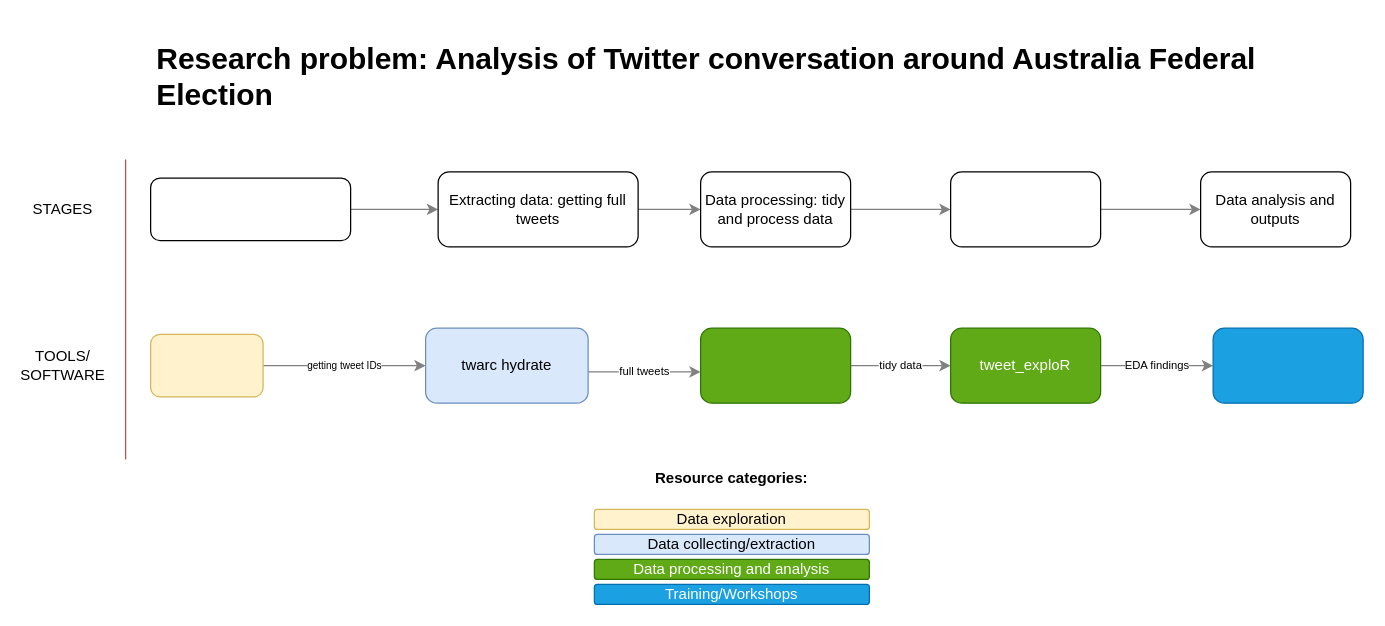
This 1385x626 diagram has some shape labels left out. Here are the shapes that lost their labels. From the top down, the box of each, then its label:
(149, 177, 351, 241): Preliminary investigation
(949, 171, 1101, 247): Exploratory data analysis
(149, 333, 263, 397): ADOReD
(699, 327, 851, 403): tidy_tweet
(1212, 327, 1363, 403): Network analysis, etc.
